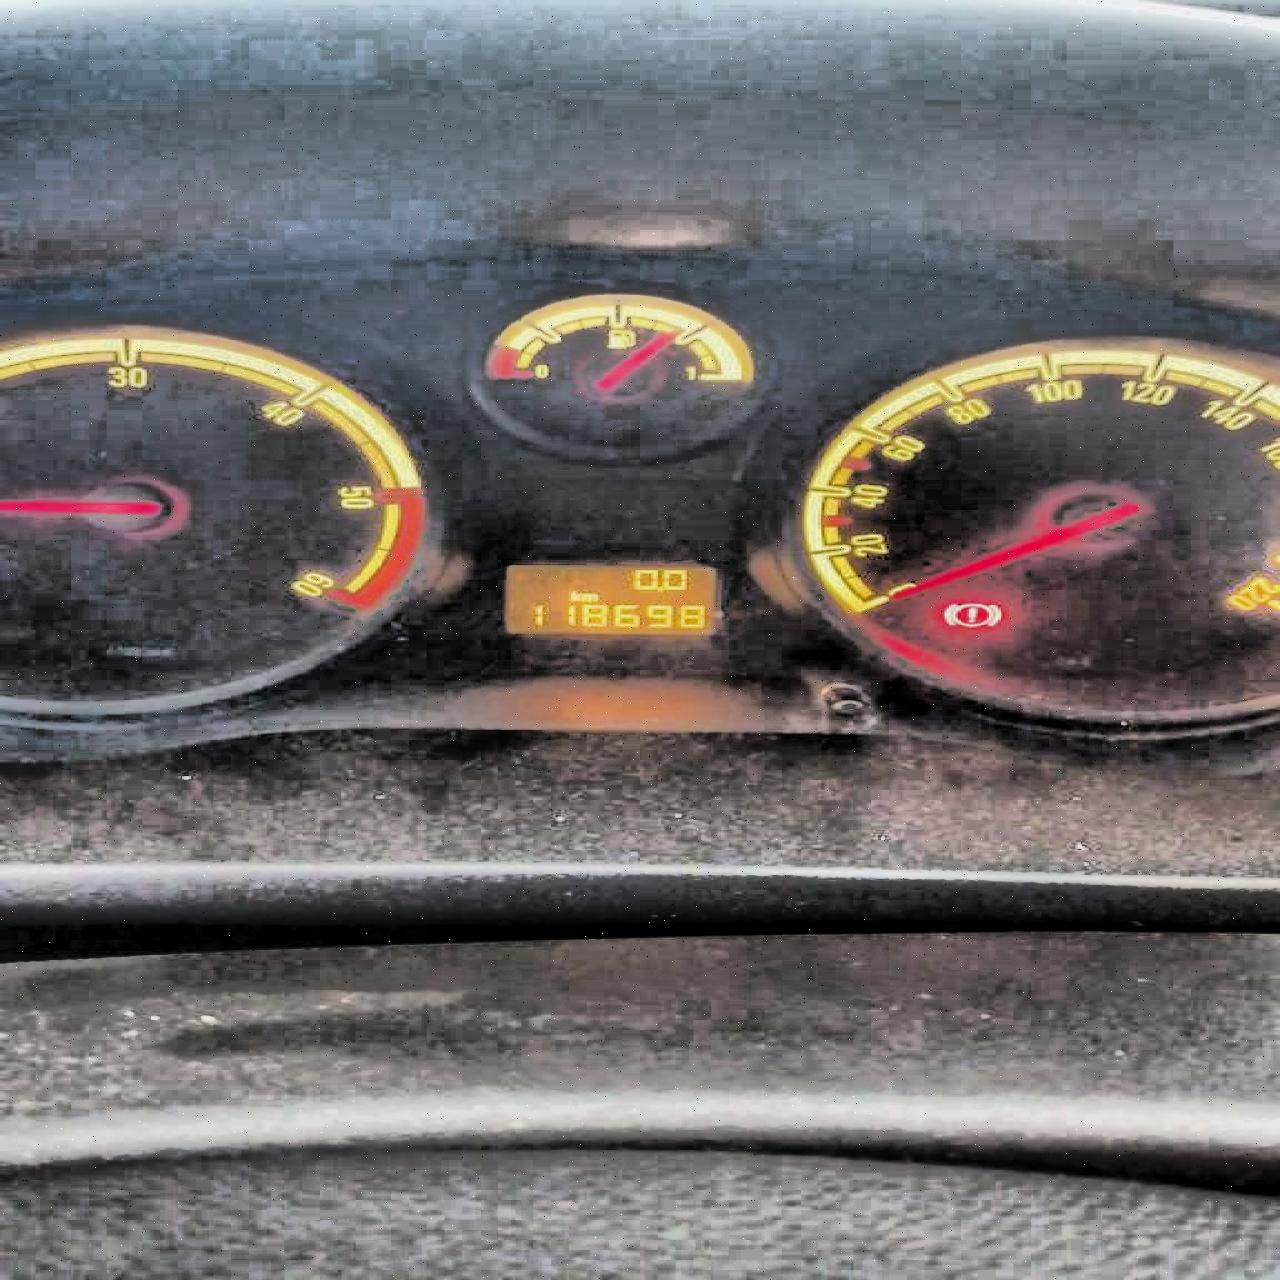-: (655, 586, 662, 590)
0: (662, 567, 687, 588), (632, 567, 655, 588)
1: (529, 602, 544, 626), (563, 602, 576, 625)
6: (611, 602, 640, 627)
8: (675, 602, 704, 628), (578, 602, 606, 626)
9: (645, 604, 672, 627)
X: (567, 588, 580, 601), (580, 592, 598, 601)
odometer: (493, 557, 727, 639)
